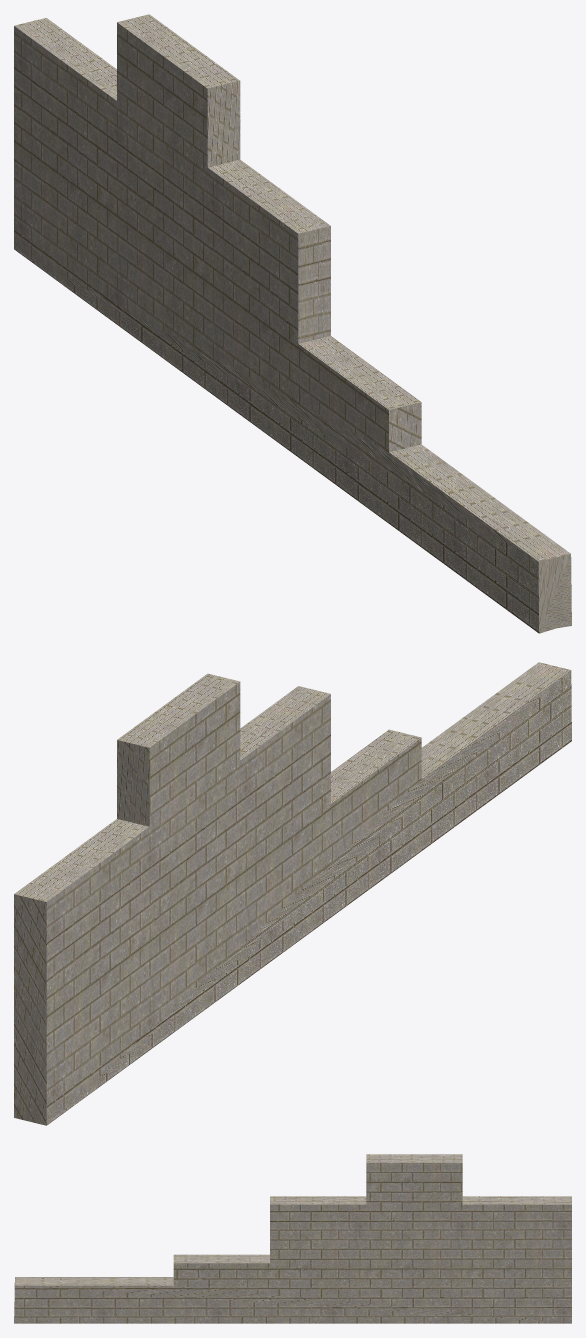
The model's file is wall_2.fbx.
3 renders of one model, top to bottom at view 1: azimuth 30°, elevation 25°; view 2: azimuth 150°, elevation 25°; view 3: azimuth 270°, elevation 25°, orthographic. The views are drawn at different scales.
Visible parts, largest first — view 1: WALL_4; view 2: WALL_4; view 3: WALL_4.
Boxes of the visible parts, <box> form: WALL_4: <box>14,14,571,633</box>; WALL_4: <box>14,662,571,1125</box>; WALL_4: <box>14,1154,571,1323</box>.
Size of the model in its own units: 18.35 by 163 by 513.
Materials: 1 (1 with a texture image).
